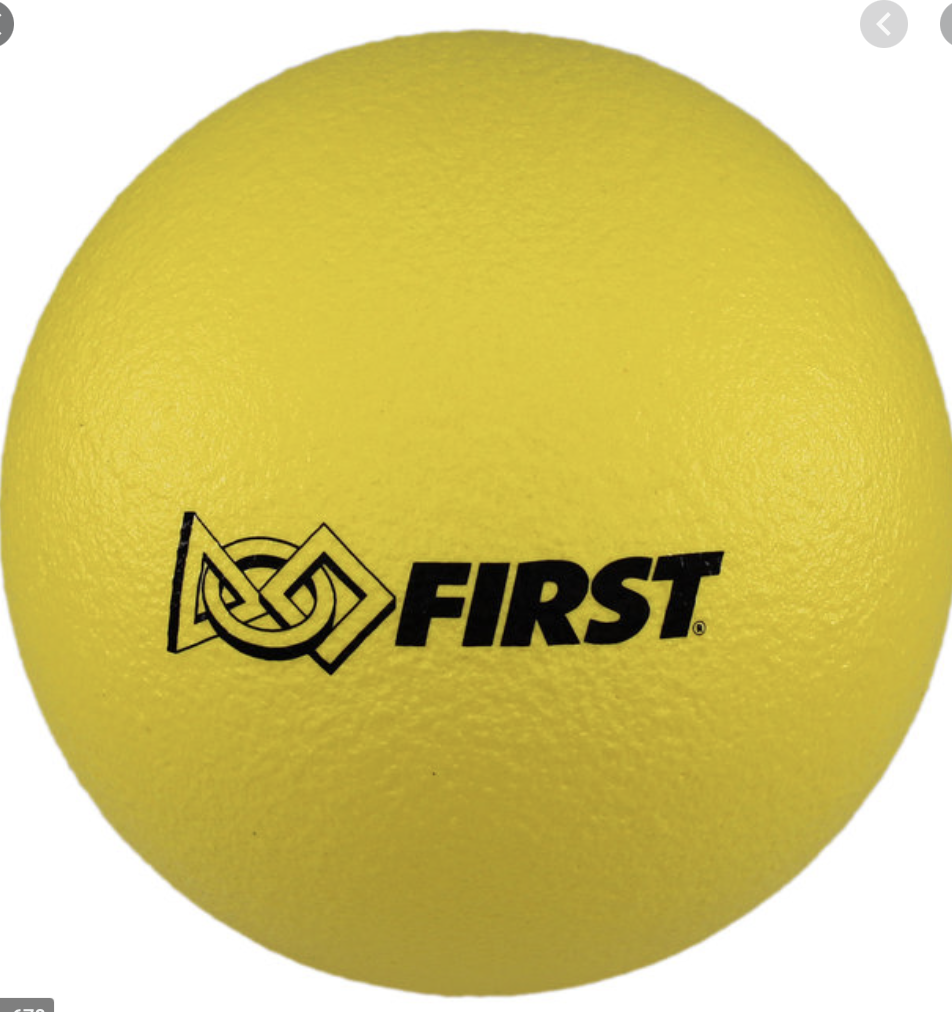powercell: (9, 48, 952, 996)
